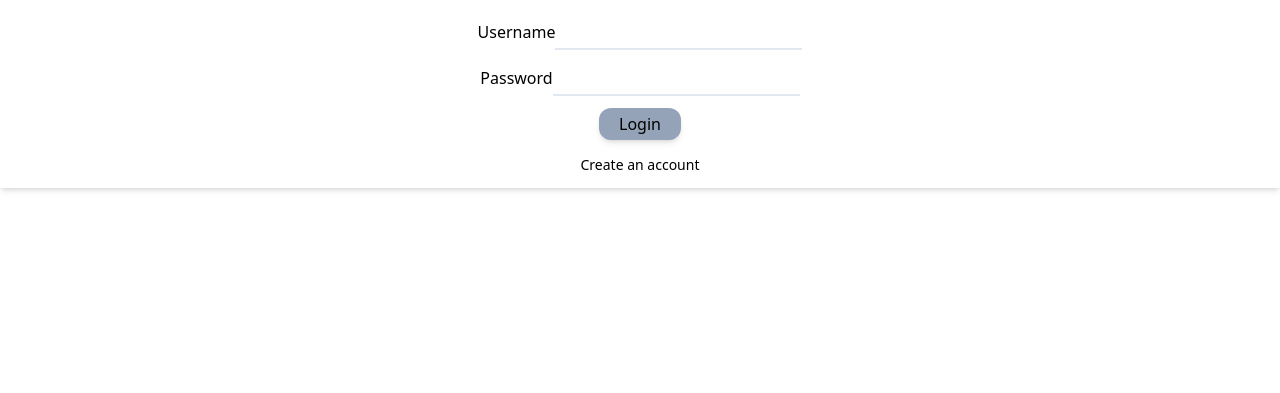
Test: Authentation Form › Change of isLogin state
Expected: the number of fields is 1, [555,16,802,50]
Click the link "Create an account" at (640,164), box [580,155,700,174]
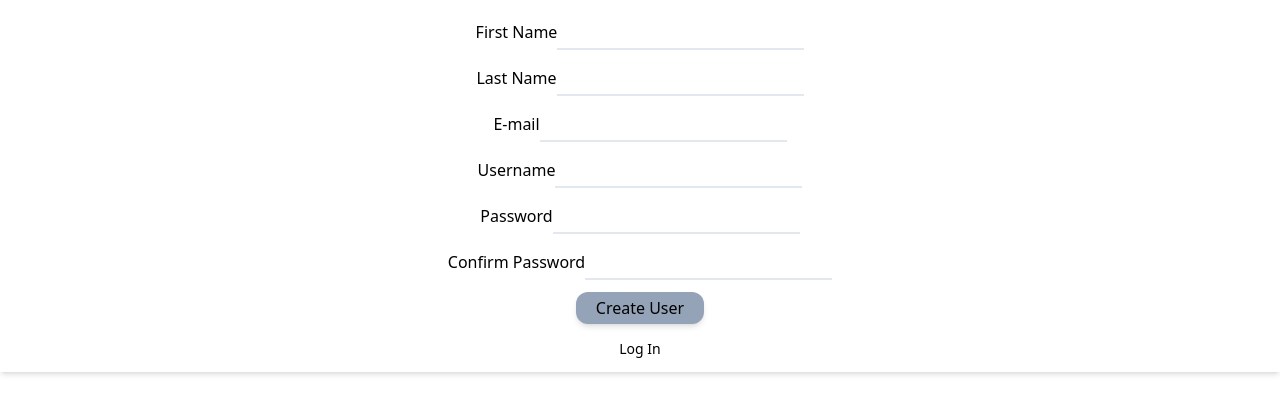
Now the number of fields is 4, box [557,16,804,50]; [556,62,804,96]; [540,108,787,142]; [555,154,802,188]
Now the link "Log In" is shown, box [619,339,661,358]
